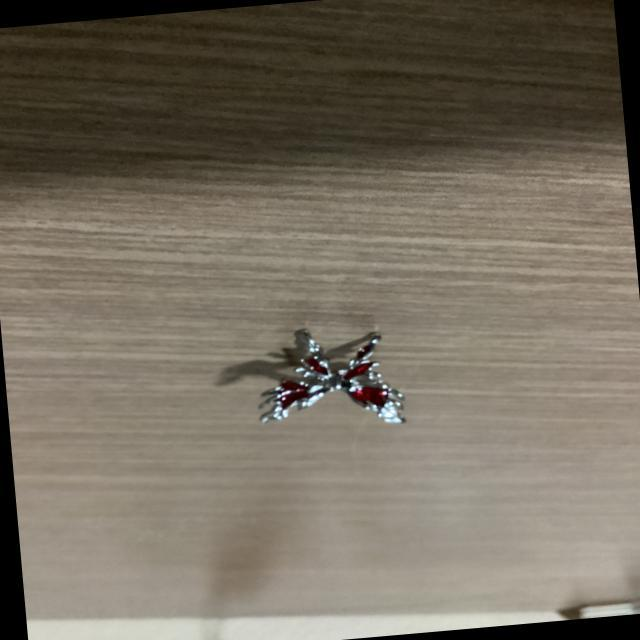Ring: (254, 324, 409, 429)
